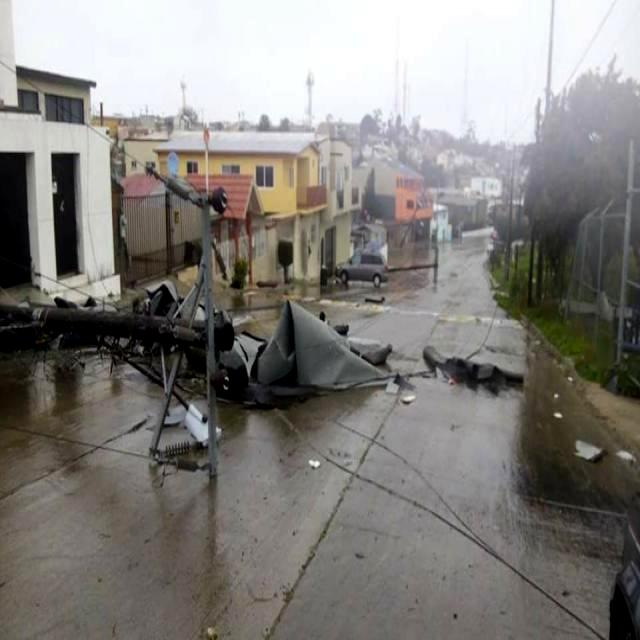Broken Pole: (1, 177, 229, 481)
